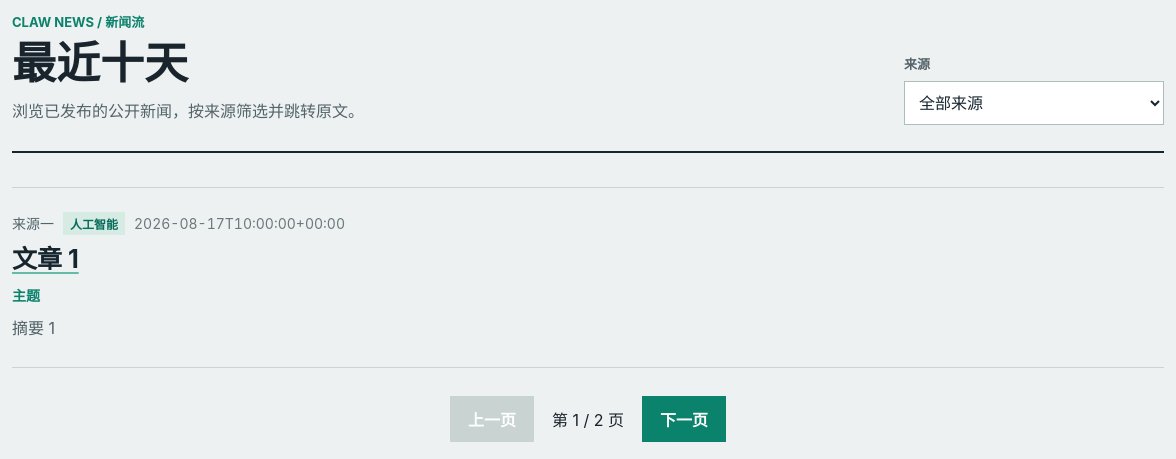
it: ArticlesPage › uses server pagination and shows an empty result without fallback content
The width and height of the screenshot is (1176, 459).
Click the button "下一页". click: [684, 420]
box: [642,396,726,442]
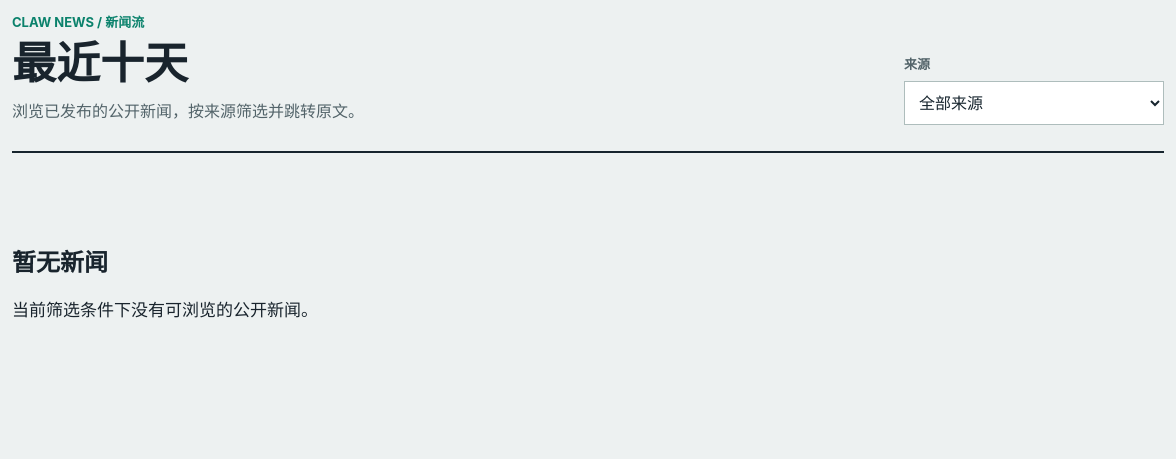
Check: the text "暂无新闻" is shown, box [12,248,108,276]
Check: the text "文章 1" is gone
